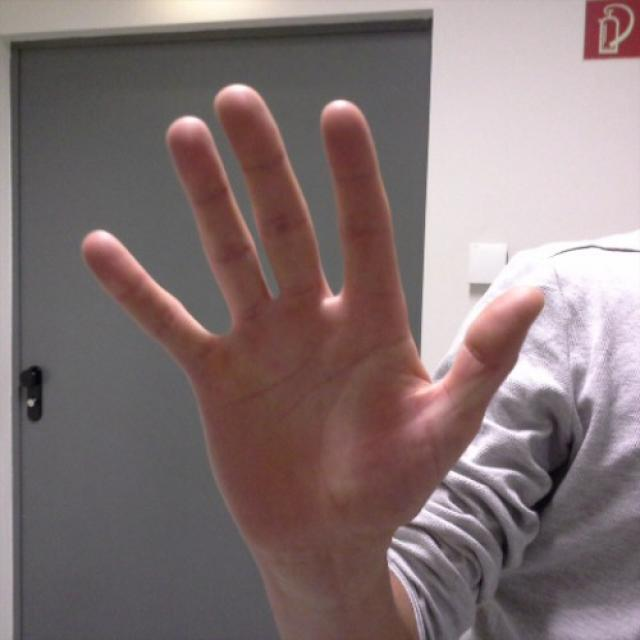paper: (81, 86, 545, 512)
